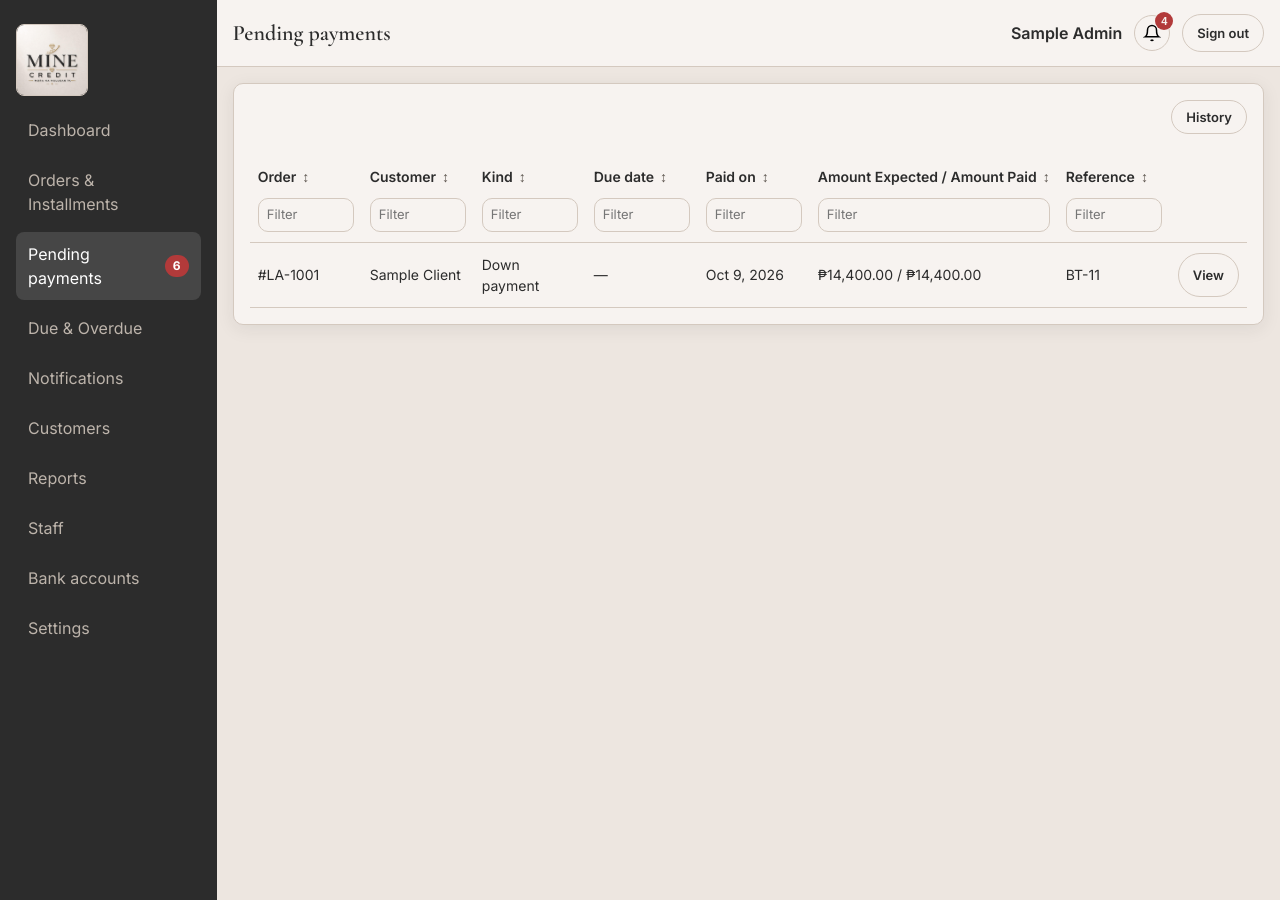
Test: PendingPayments › updates the sidebar badge right after a payment is confirmed
This screenshot has width=1280, height=900.
Check: the link "Pending payments 6" is shown, box x1=16 y1=232 x2=201 y2=300
What coordinates should you click on to do the following:
click the button "View"
I would click on:
 (1208, 274)
Its box is x1=1178 y1=252 x2=1239 y2=296.
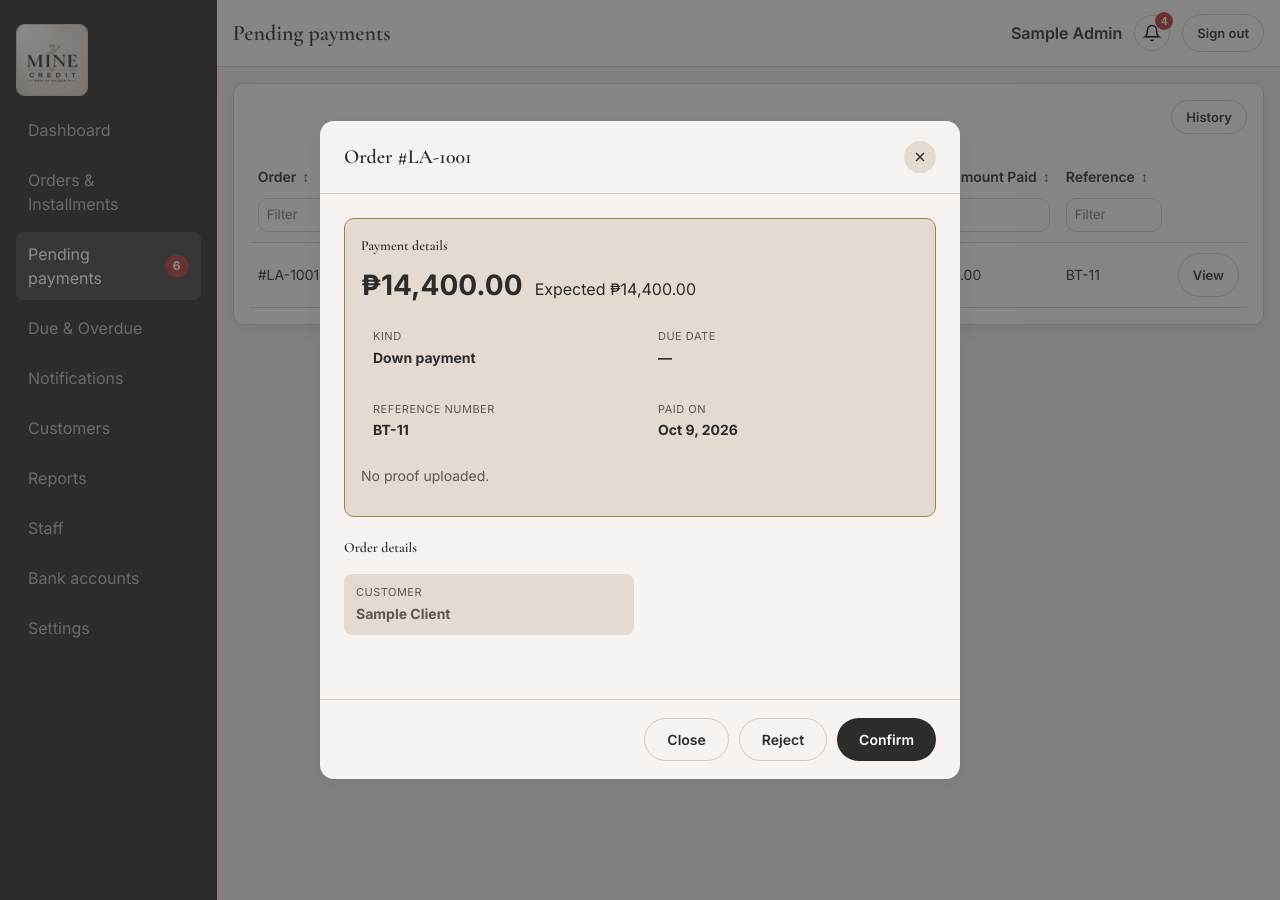
What coordinates should you click on to do the following:
click the button "Confirm"
I would click on:
 (887, 739)
Its box is x1=837 y1=718 x2=936 y2=761.
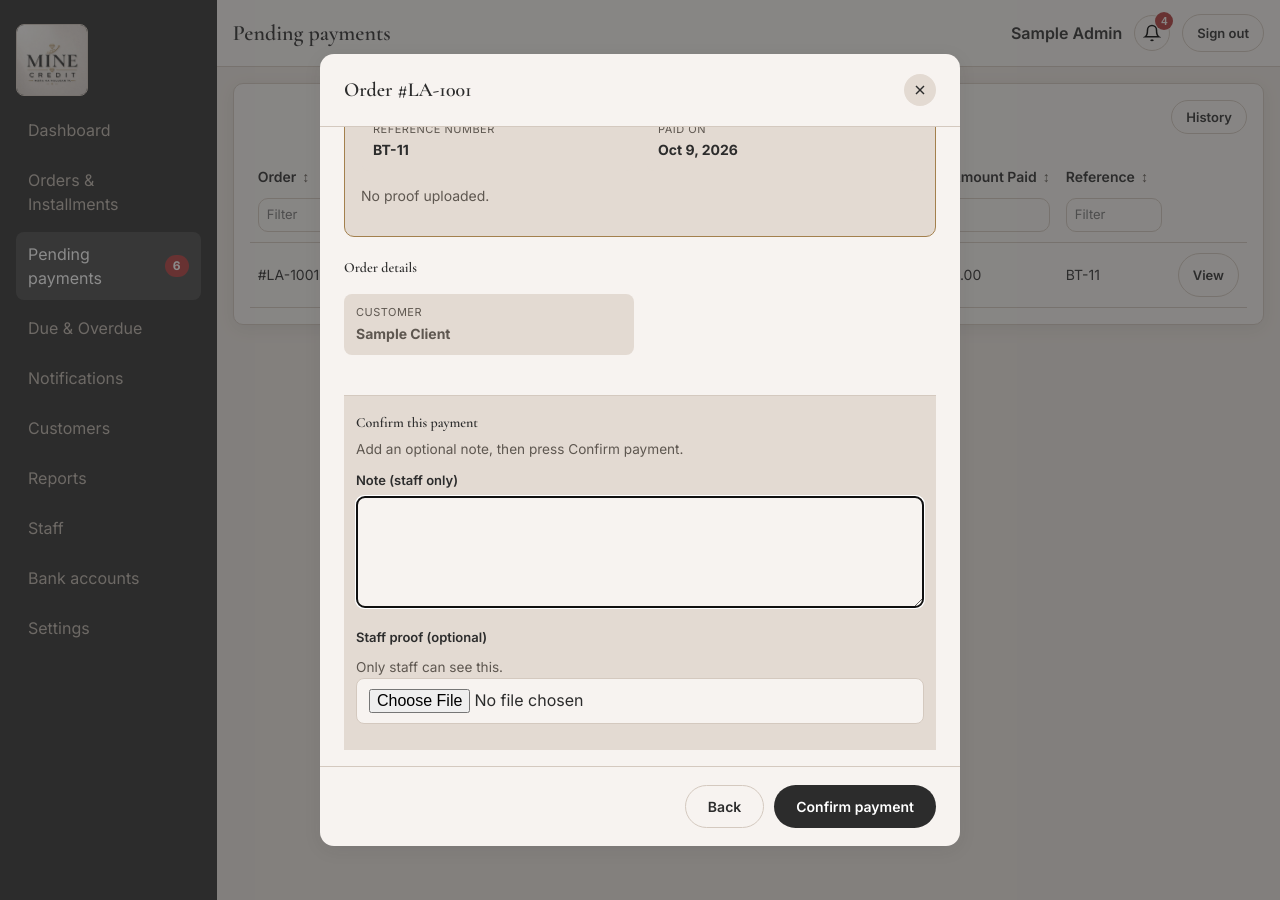
What coordinates should you click on to do the following:
click the button "Confirm payment"
I would click on:
 (855, 806)
Its box is x1=774 y1=785 x2=936 y2=828.
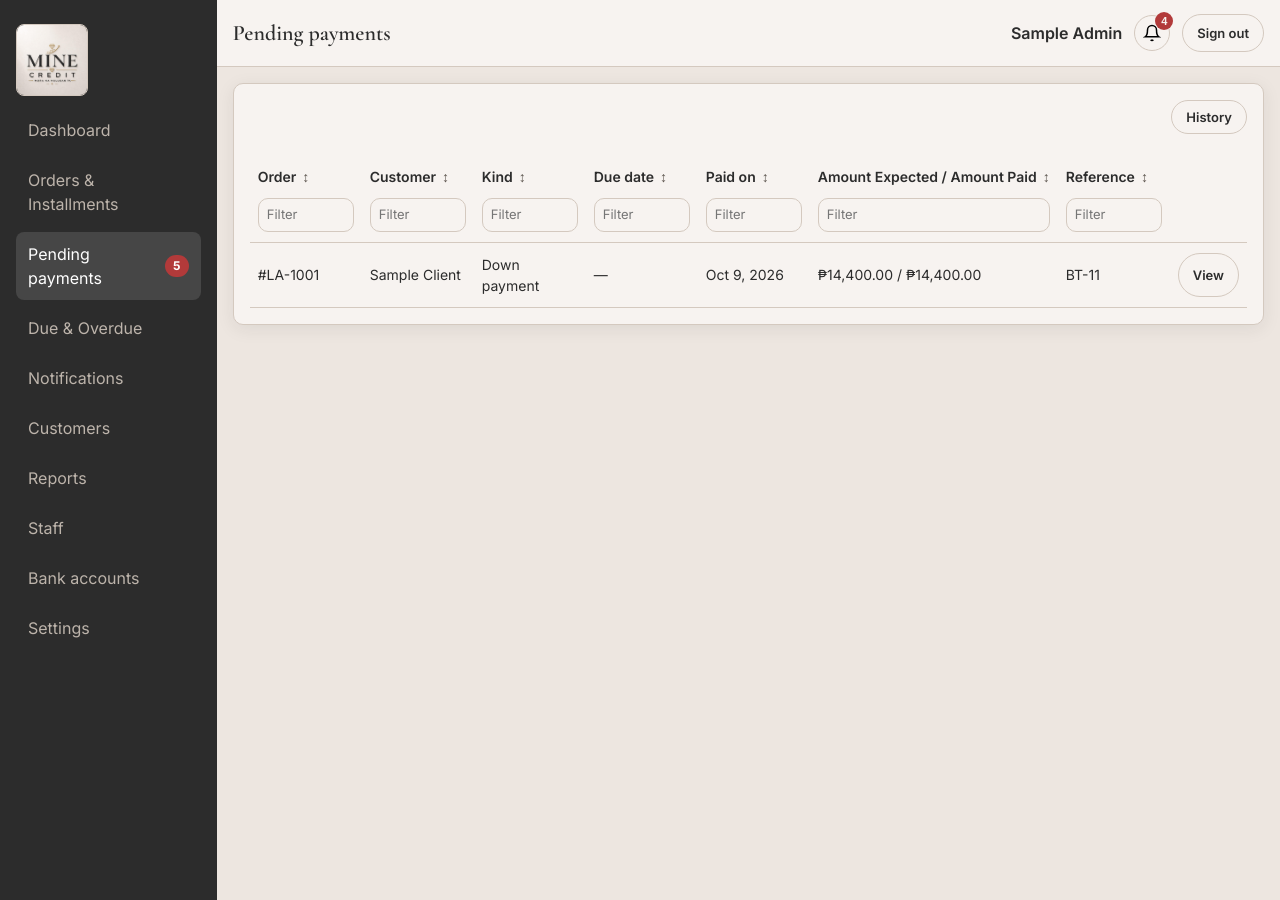
Check: the link "Pending payments 5" is shown, box x1=16 y1=232 x2=201 y2=300
